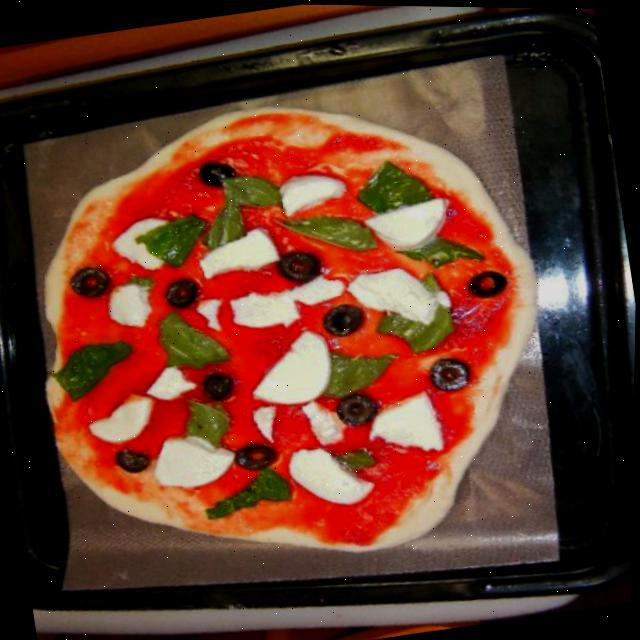汉堡快餐: (0, 58, 587, 603)
